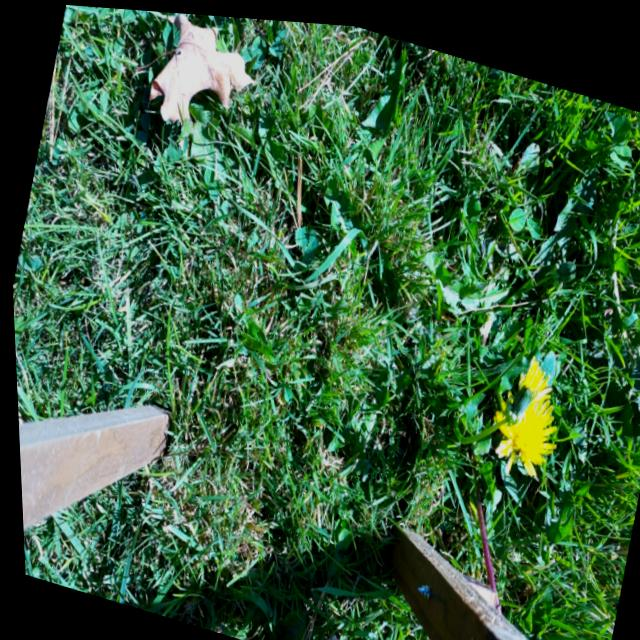base: (460, 437, 488, 474), (445, 392, 471, 427)
flower: (489, 364, 561, 475), (499, 352, 547, 426)
